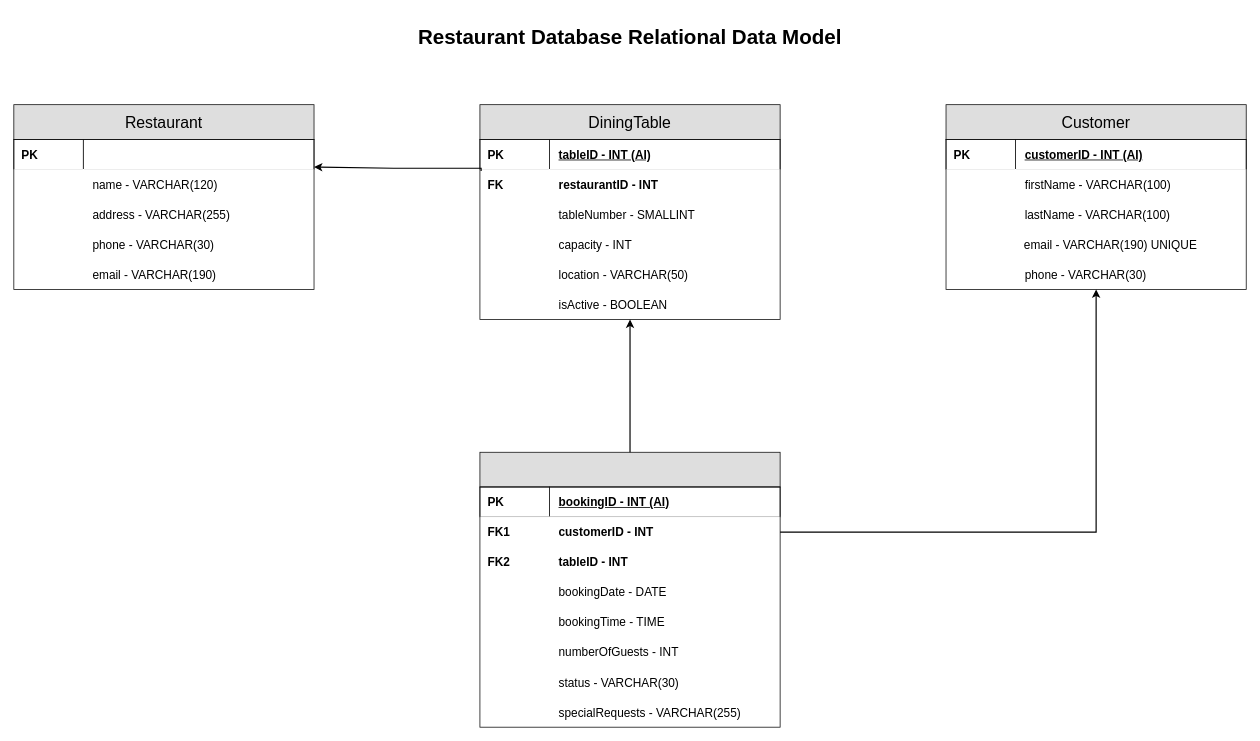
Some shapes in this 1260 by 741 pixel diagram are drawn without their labels. The shapes that lost their labels are listed below. From the top down, each one's box as (x1, y1, x2, y2) in pixels, then its label:
(83, 139, 314, 169): restaurantID - INT (AI)
(479, 451, 780, 487): Booking
